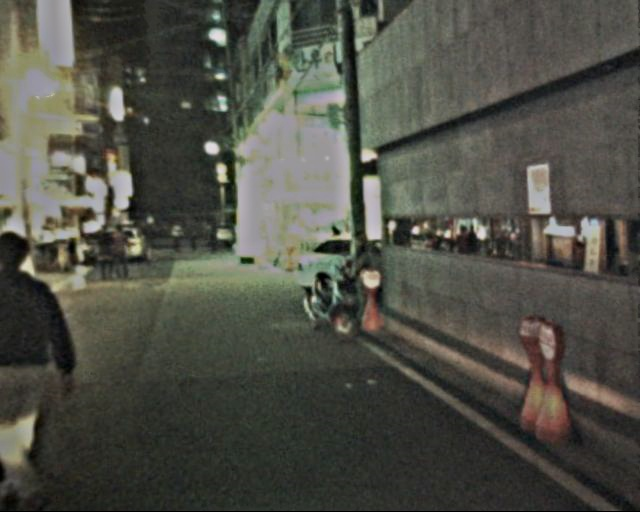person: (137, 218, 219, 254), (110, 221, 137, 281), (95, 218, 120, 279)
